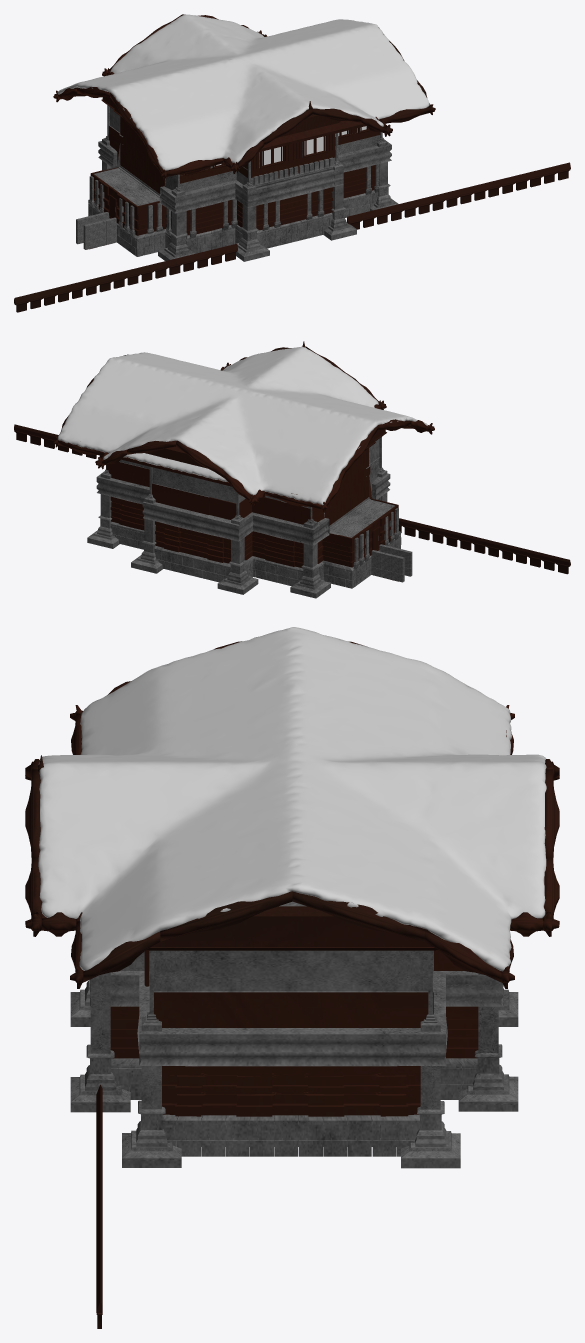
File: House_outside.fbx
The picture shows the model from 3 angles, top to bottom: view 1: azimuth 30°, elevation 25°; view 2: azimuth 150°, elevation 25°; view 3: azimuth 270°, elevation 25°; orthographic projection. The views are drawn at different scales.
Parts seen in each view (by area): view 1: snow, wood, rock, rock.001, rock.002, wood.002, lights; view 2: snow, wood, rock.001, rock, wood.002, rock.002, wood.001; view 3: snow, wood, rock.001, rock.002, rock, wood.002.
Part boxes in pixels (x1,y1,x2,y2): snow: [57, 14, 429, 170]; wood: [14, 14, 570, 312]; rock: [76, 125, 380, 256]; rock.001: [94, 107, 391, 213]; rock.002: [88, 105, 398, 261]; wood.002: [108, 116, 380, 193]; lights: [214, 126, 366, 166]; snow: [58, 346, 427, 505]; wood: [14, 341, 570, 574]; rock.001: [96, 439, 394, 545]; rock: [110, 457, 412, 594]; wood.002: [106, 448, 371, 525]; rock.002: [87, 437, 400, 598]; wood.001: [121, 457, 343, 486]; snow: [38, 627, 546, 971]; wood: [25, 641, 559, 1328]; rock.001: [89, 901, 503, 1146]; rock.002: [70, 950, 460, 1168]; rock: [111, 950, 518, 1156]; wood.002: [149, 950, 464, 1027].
Bounding box in the file's own units: 4782 × 1265 × 1993.
